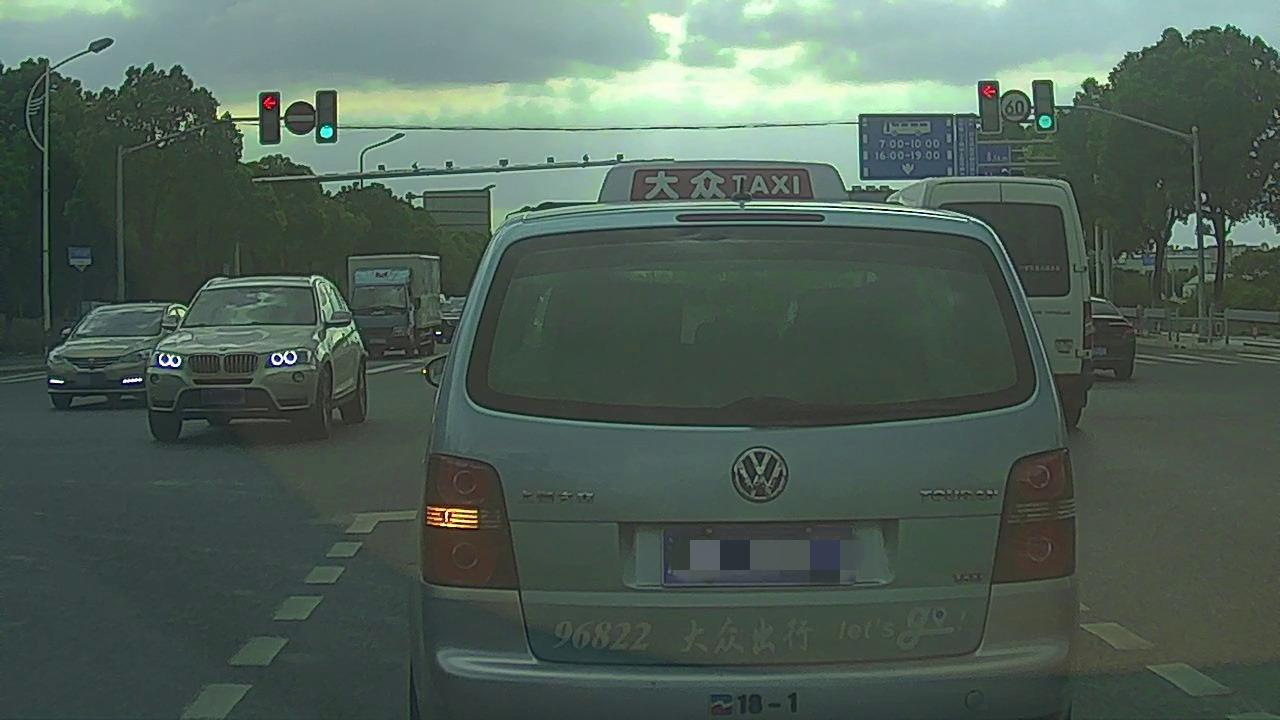traffic_light: (1033, 80, 1055, 131), (979, 80, 1000, 131), (260, 92, 277, 145), (317, 89, 333, 143)
